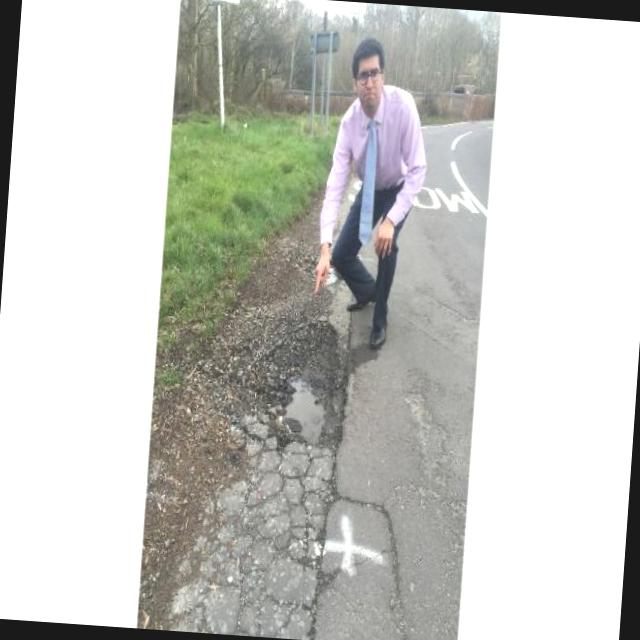pothole: (258, 308, 352, 448)
